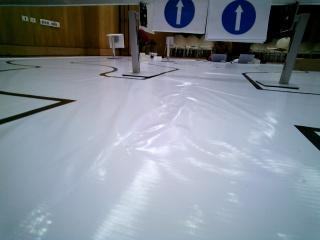straight: (145, 0, 208, 36), (211, 2, 270, 39)
